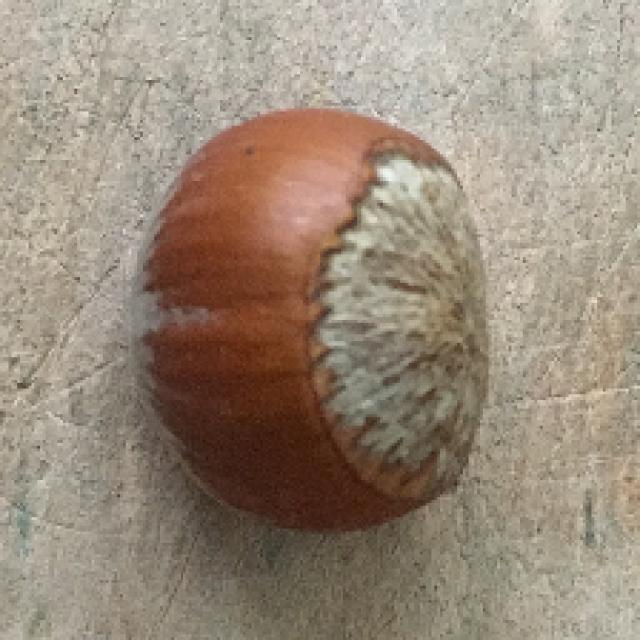QualityHazelnut: (116, 106, 496, 535)
